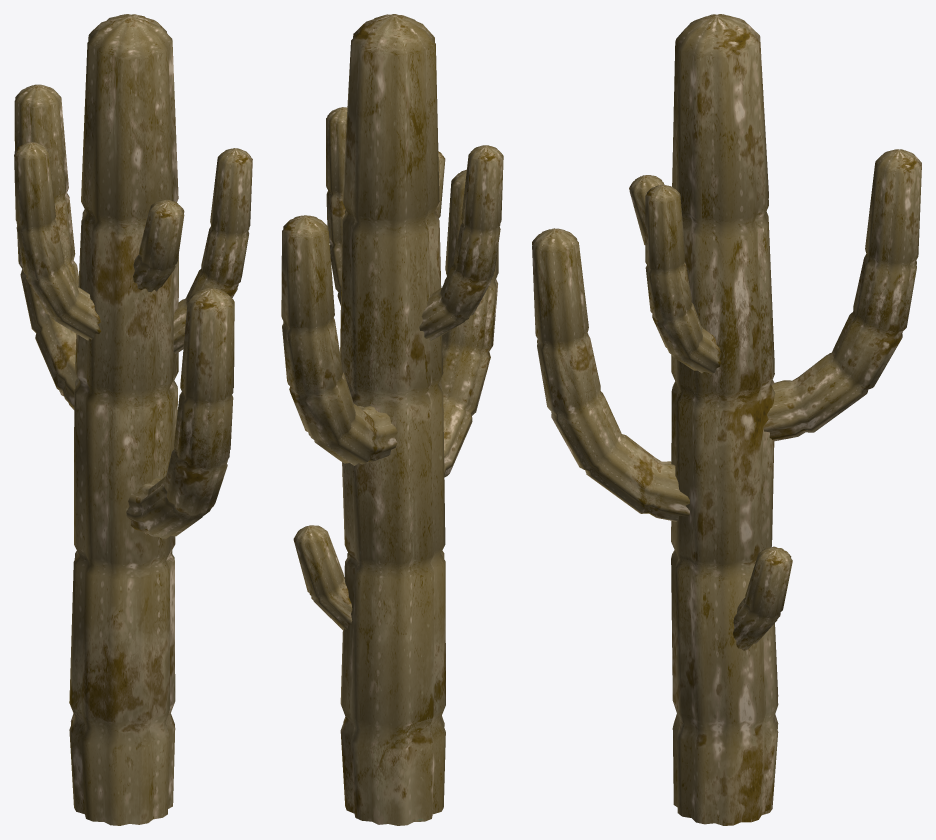
File: cactustextured.glb
3 renders of one model, left to right at view 1: azimuth 30°, elevation 25°; view 2: azimuth 150°, elevation 25°; view 3: azimuth 270°, elevation 25°, orthographic.
Visible parts, largest first — view 1: cactus_full; view 2: cactus_full; view 3: cactus_full.
Part boxes in pixels (box(x1,y1,x2,y2)): cactus_full: box(14, 14, 252, 825); cactus_full: box(281, 14, 503, 825); cactus_full: box(532, 14, 921, 825).
Size of the model in its own units: 0.8356 by 3.1 by 1.38.
Materials: 7 (7 with a texture image).
